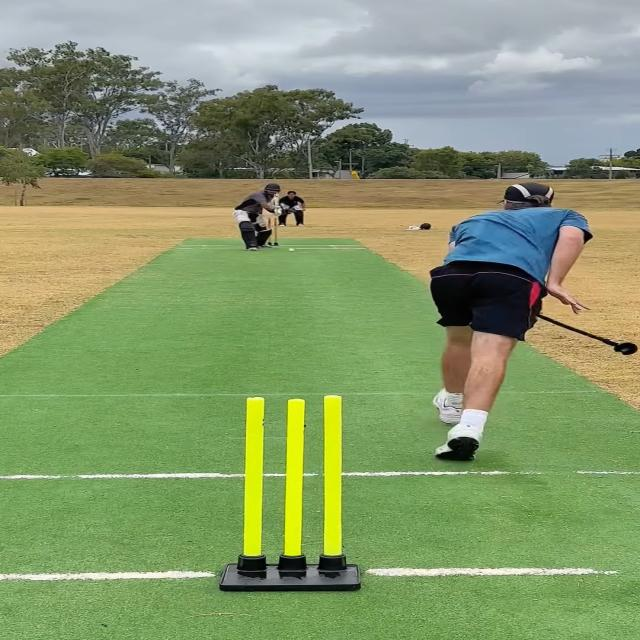ball: (286, 248, 296, 252)
stump: (220, 394, 360, 594)
